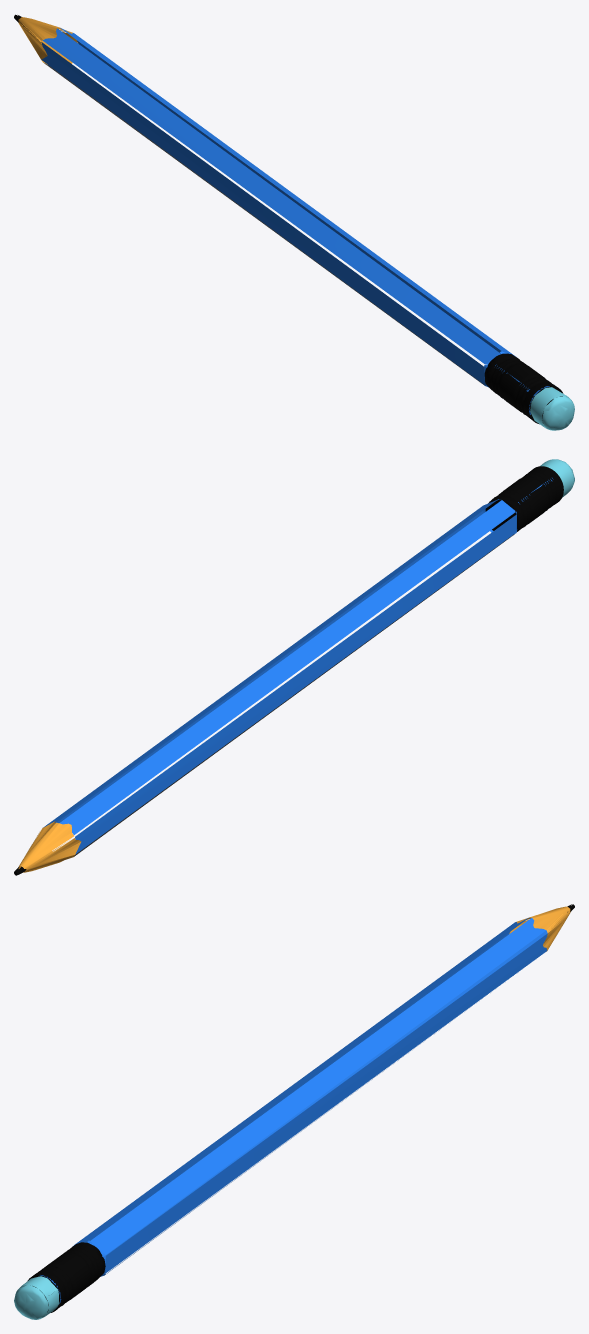
File: pencil.FBX
The picture shows the model from 3 angles, top to bottom: view 1: azimuth 30°, elevation 25°; view 2: azimuth 150°, elevation 25°; view 3: azimuth 330°, elevation 25°; orthographic projection.
Visible parts, largest first — view 1: pencil; view 2: pencil; view 3: pencil.
Part boxes in pixels (bbox=[...]): pencil: bbox=[14, 14, 574, 430]; pencil: bbox=[14, 459, 574, 875]; pencil: bbox=[14, 904, 574, 1319].
Bounding box in the file's own units: 0.0388 × 0.0409 × 1.01.
